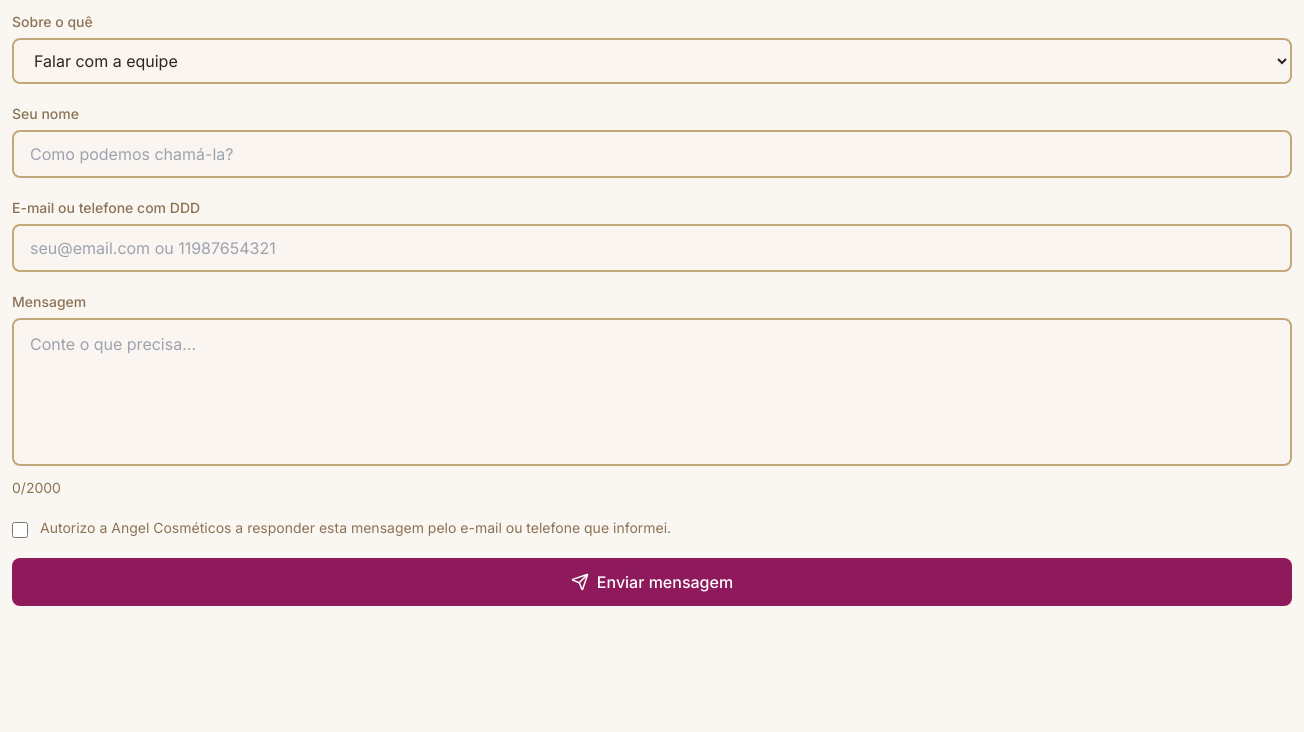
Test: contrato do AtendimentoForm › com backend que resolve, registra e limpa o rascunho
Type "Ana Paula" into the field labelled "Seu nome" at (652, 154), box x1=12 y1=130 x2=1292 y2=178
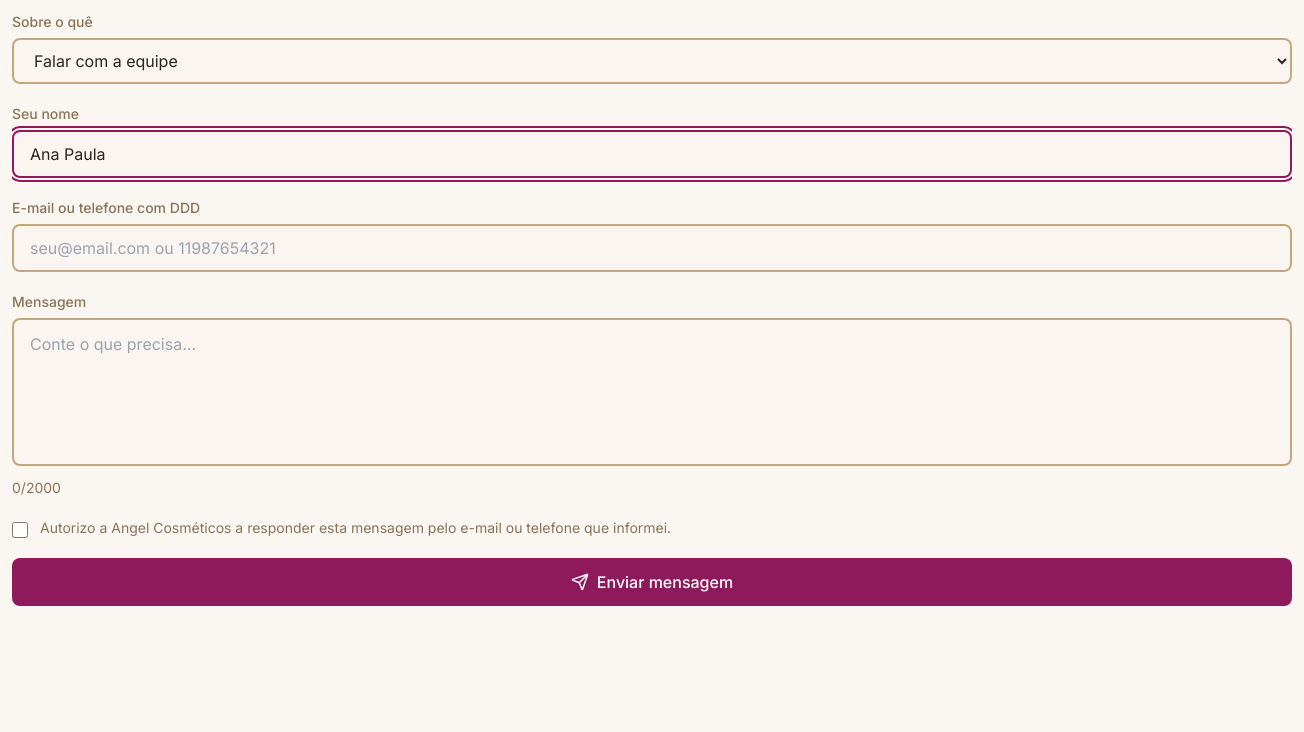
Type "ana@email.com" into the field labelled "E-mail ou telefone com DDD" at (652, 248), box x1=12 y1=224 x2=1292 y2=272
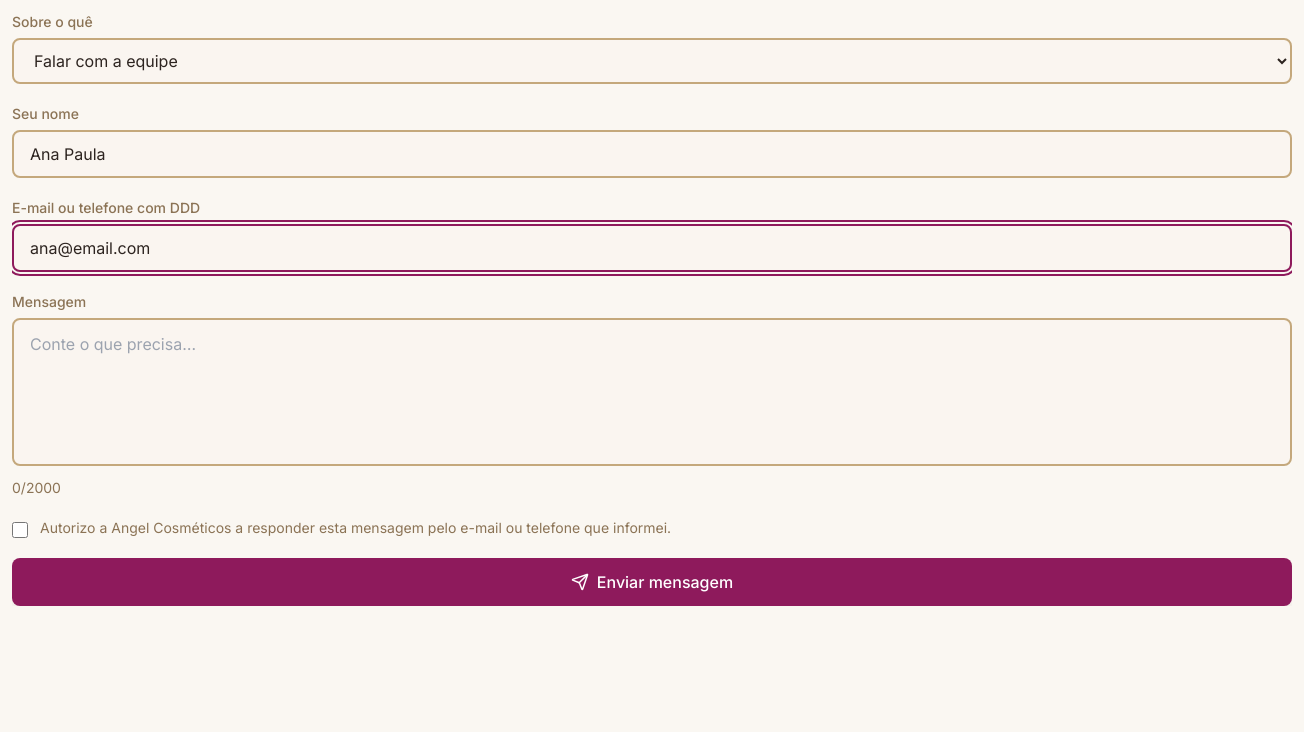
Type "Quero saber sobre o serum." into the text box labelled "Mensagem" at (652, 392), box x1=12 y1=318 x2=1292 y2=466
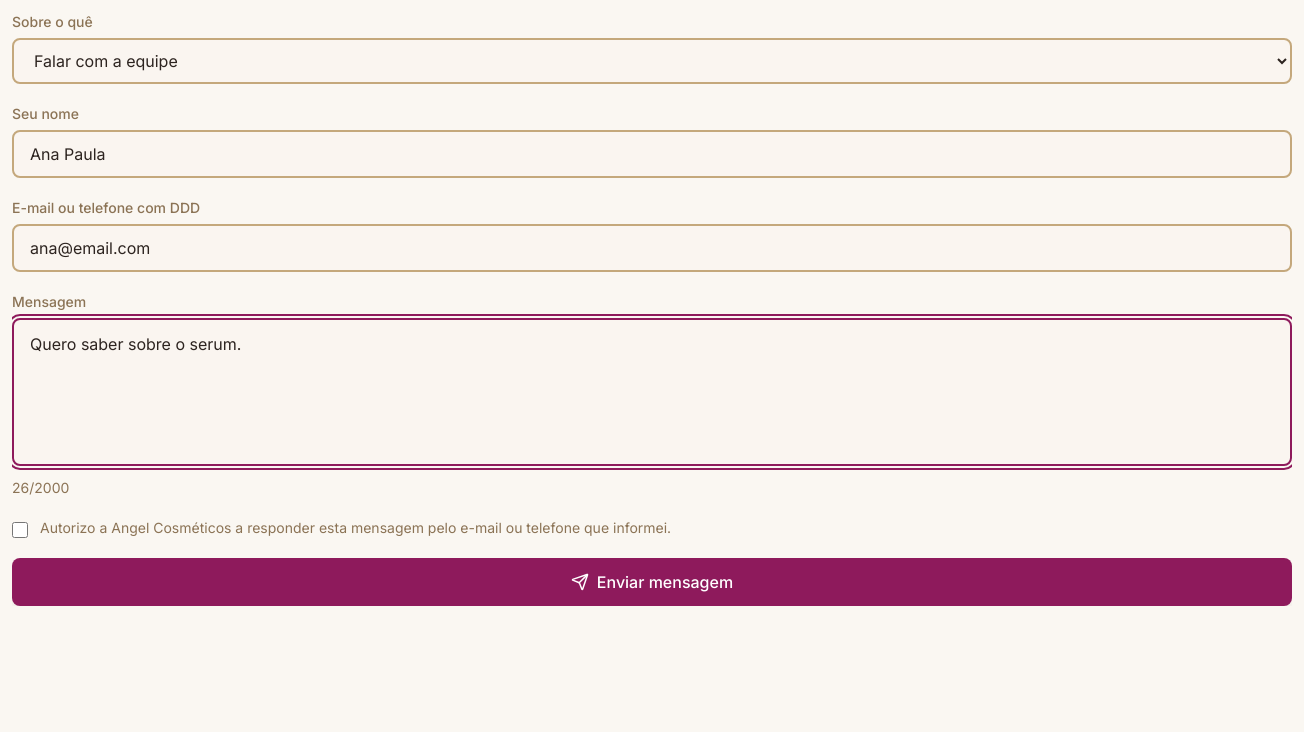
Click the text "Autorizo" at (356, 528), box x1=40 y1=518 x2=671 y2=538
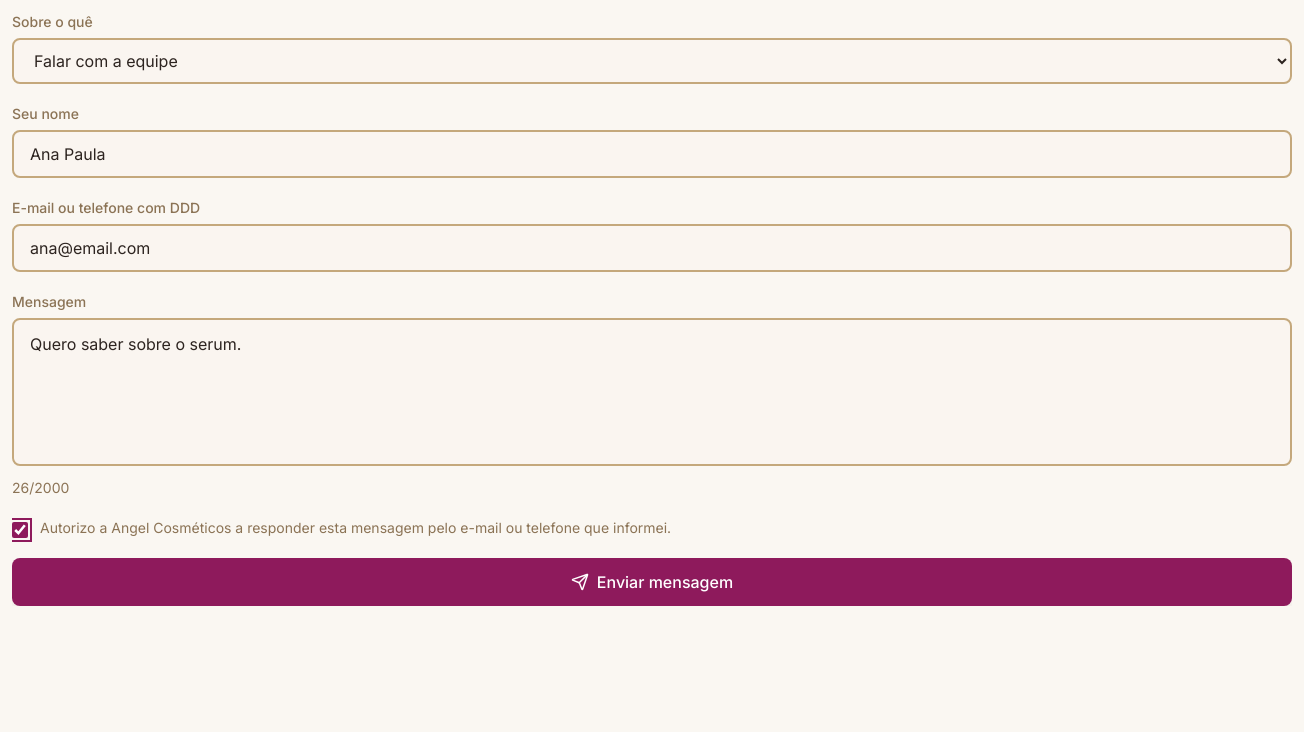
Click the button "Enviar mensagem" at (652, 582), box x1=12 y1=558 x2=1292 y2=606
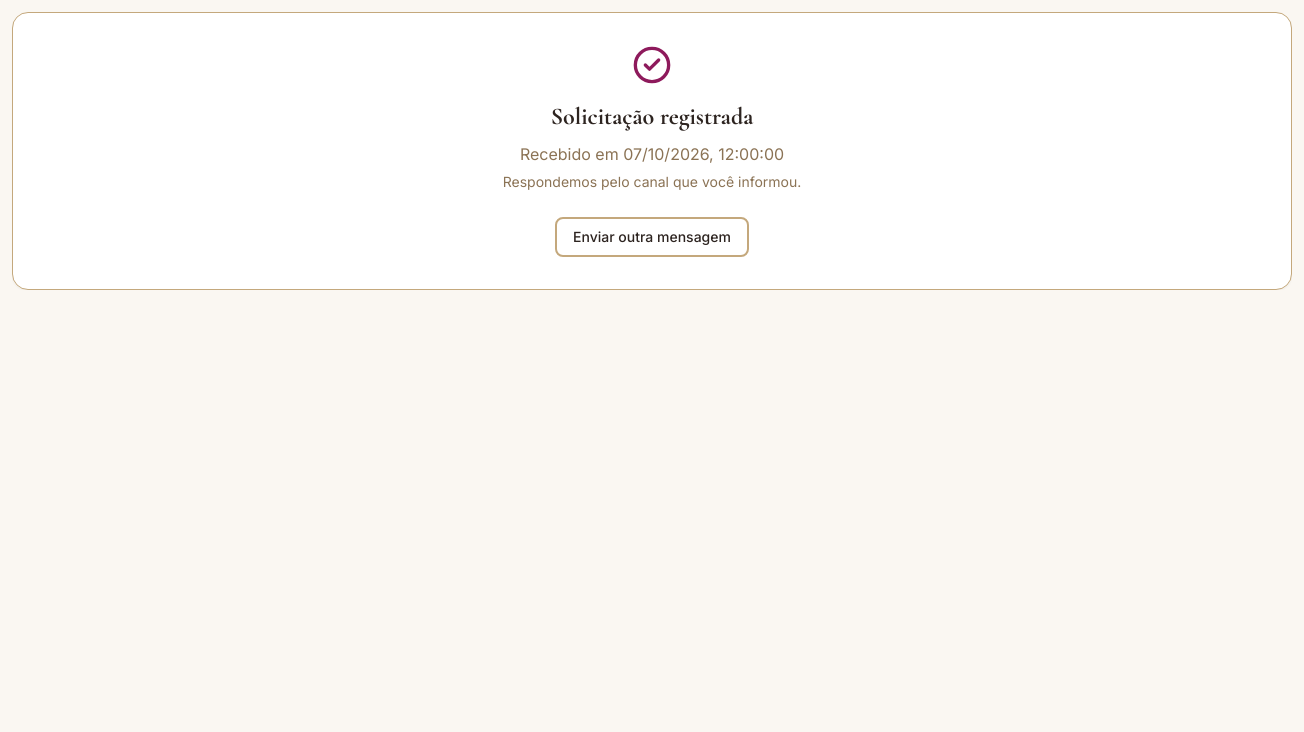
Now the heading "Solicitação registrada" is shown, box x1=551 y1=102 x2=753 y2=131
